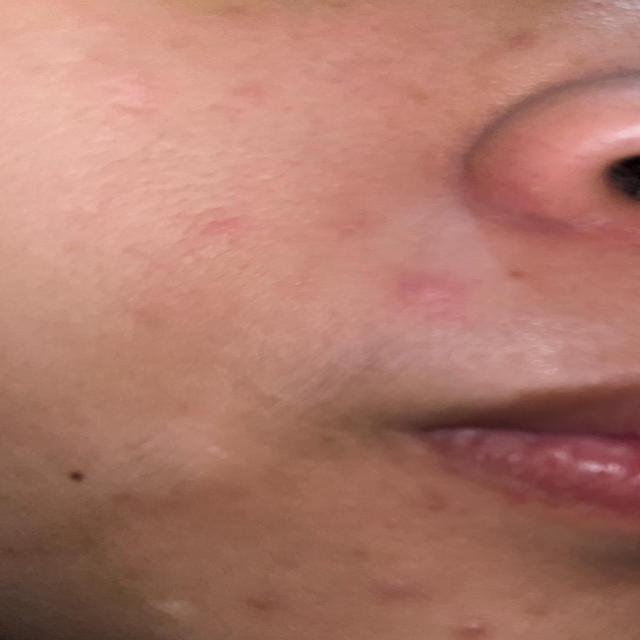papule: (324, 257, 526, 338), (369, 570, 434, 606)
pustule: (229, 567, 302, 625)
